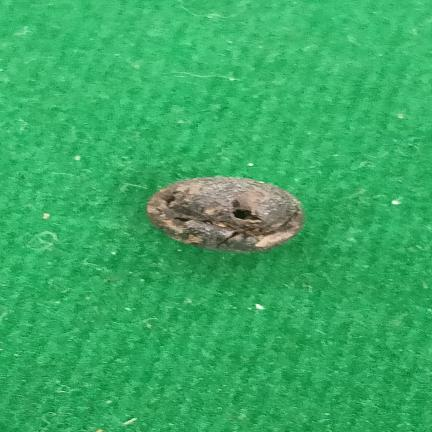partial-black: (147, 177, 304, 253)
